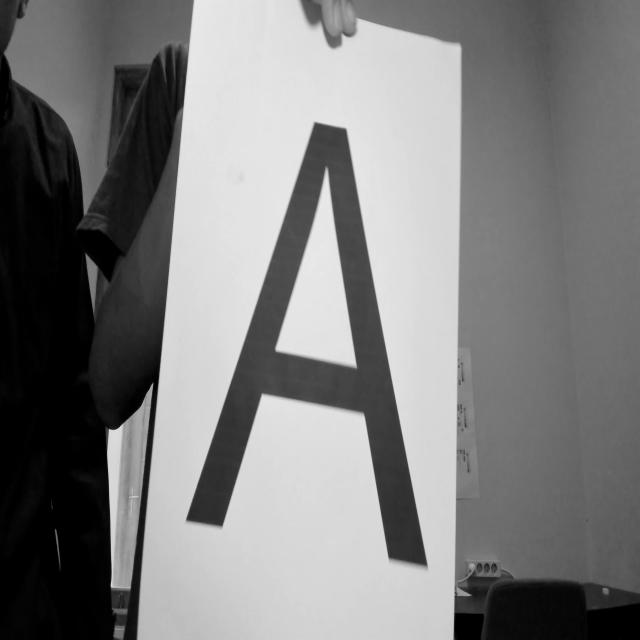a: (175, 95, 445, 608)
